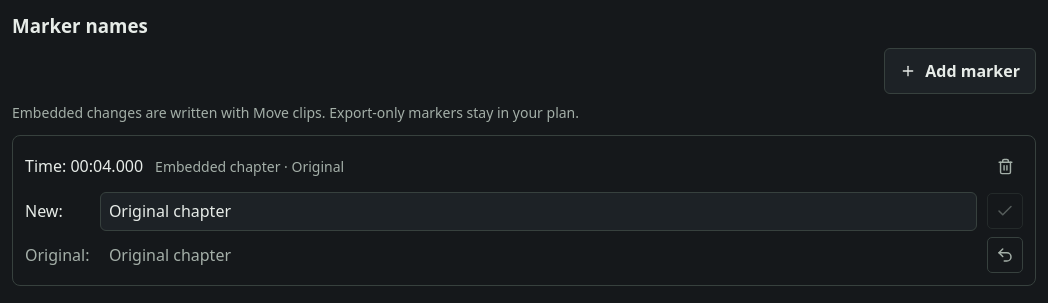
Test: keeps unchanged marker names original without requiring individual review
Check: the text "Embedded chapter · Original" is shown, box [155,156,344,177]
Check: the button named "Accept name for marker chapter-1" is disabled, box [987,194,1023,230]
Step 1. Type " change" into the field → (538, 212), box [100,192,977,231]
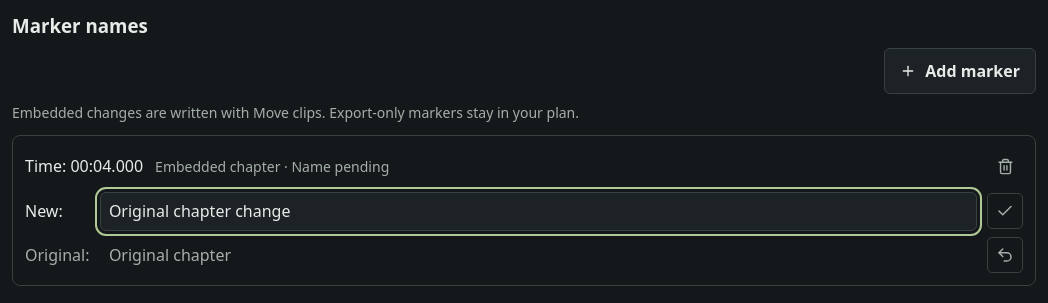
Check: the text "Embedded chapter · Name pending" is shown, box [155,156,389,177]
